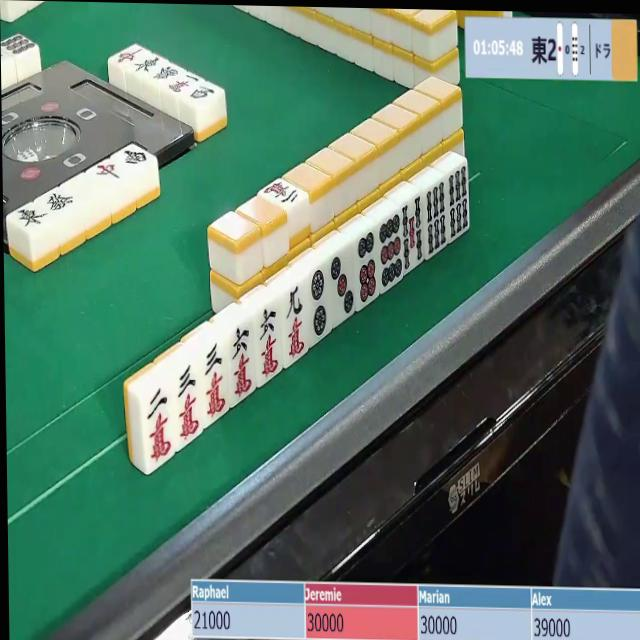2C: (142, 382, 178, 471), (262, 174, 306, 213)
2D: (309, 264, 333, 343)
3C: (174, 360, 206, 446), (201, 339, 233, 422)
3D: (331, 251, 359, 325)
5B: (401, 196, 428, 271)
6B: (424, 181, 450, 258), (448, 162, 472, 241)
6C: (228, 322, 257, 403), (256, 303, 284, 383)
6D: (353, 231, 381, 311)
9C: (283, 280, 310, 364)
9D: (374, 212, 401, 289)
EW: (17, 204, 43, 233)
GD: (46, 189, 73, 216)
RD: (94, 158, 123, 186)
SW: (119, 145, 149, 174)
